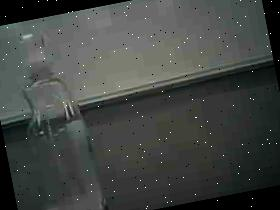hazard: (0, 9, 137, 210)
